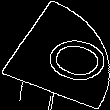O_NW: (11, 24, 99, 86)
